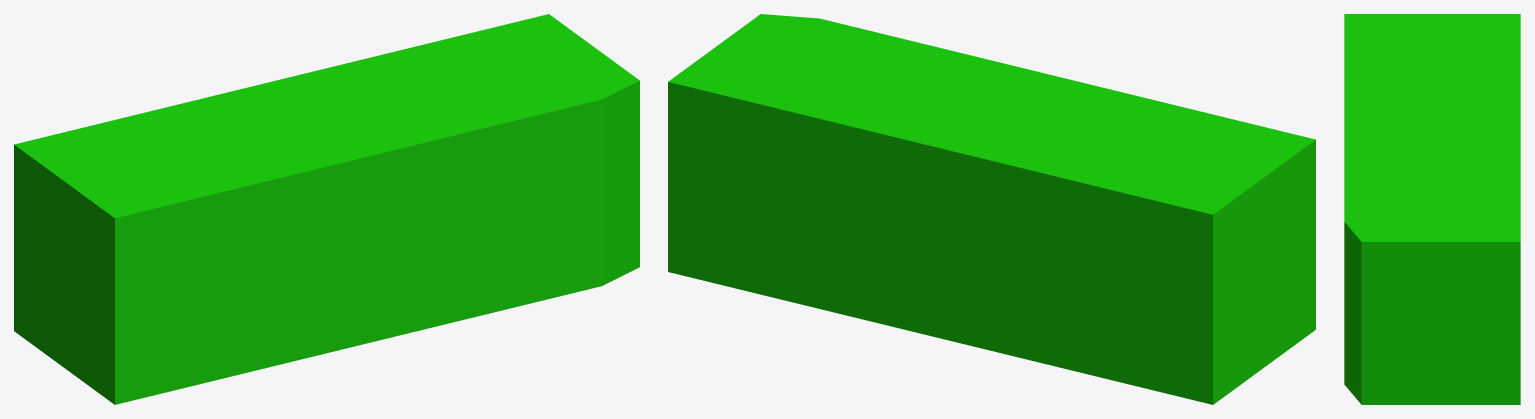
File: simple_example_hole_part_31.obj
The picture shows the model from 3 angles, left to right: view 1: azimuth 30°, elevation 25°; view 2: azimuth 150°, elevation 25°; view 3: azimuth 270°, elevation 25°; orthographic projection. The views are drawn at different scales.
Size of the model in its own units: 30 by 10 by 9.8.
